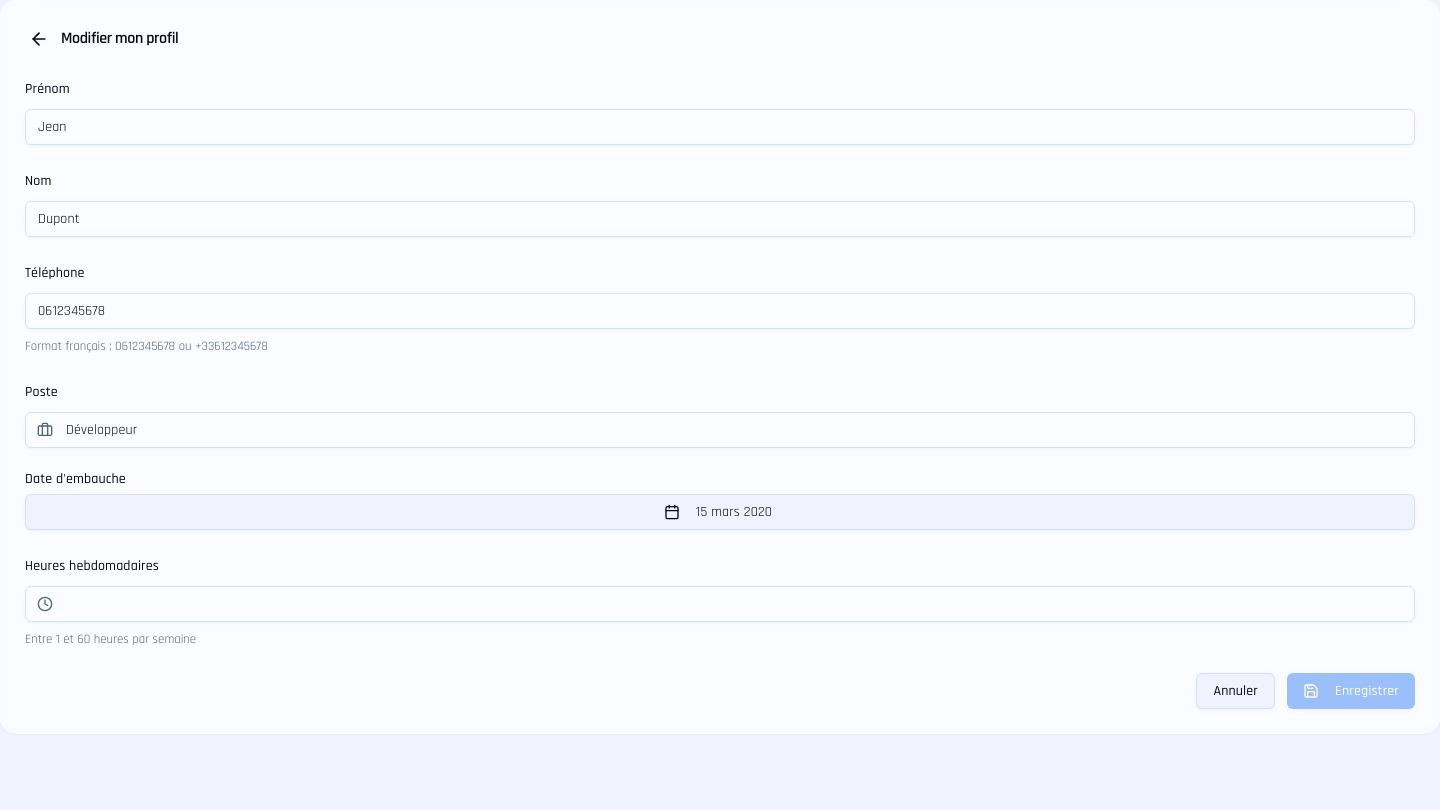
Test: EditProfileForm › Validation côté client › should show error for firstName too short
In the field with test id "input-firstName": (720, 127) left=25, top=109, right=1415, bottom=145, type "J"
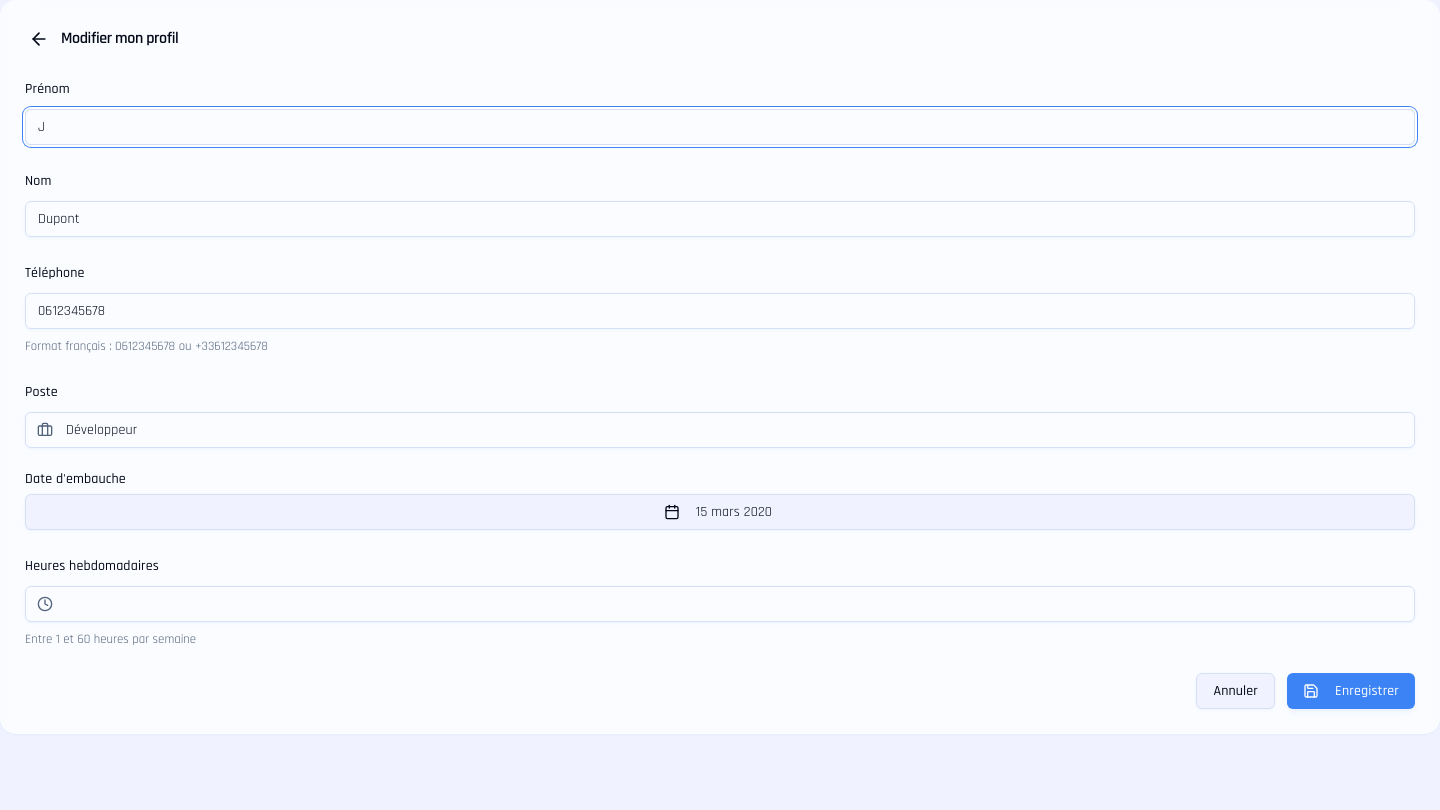
Press Tab
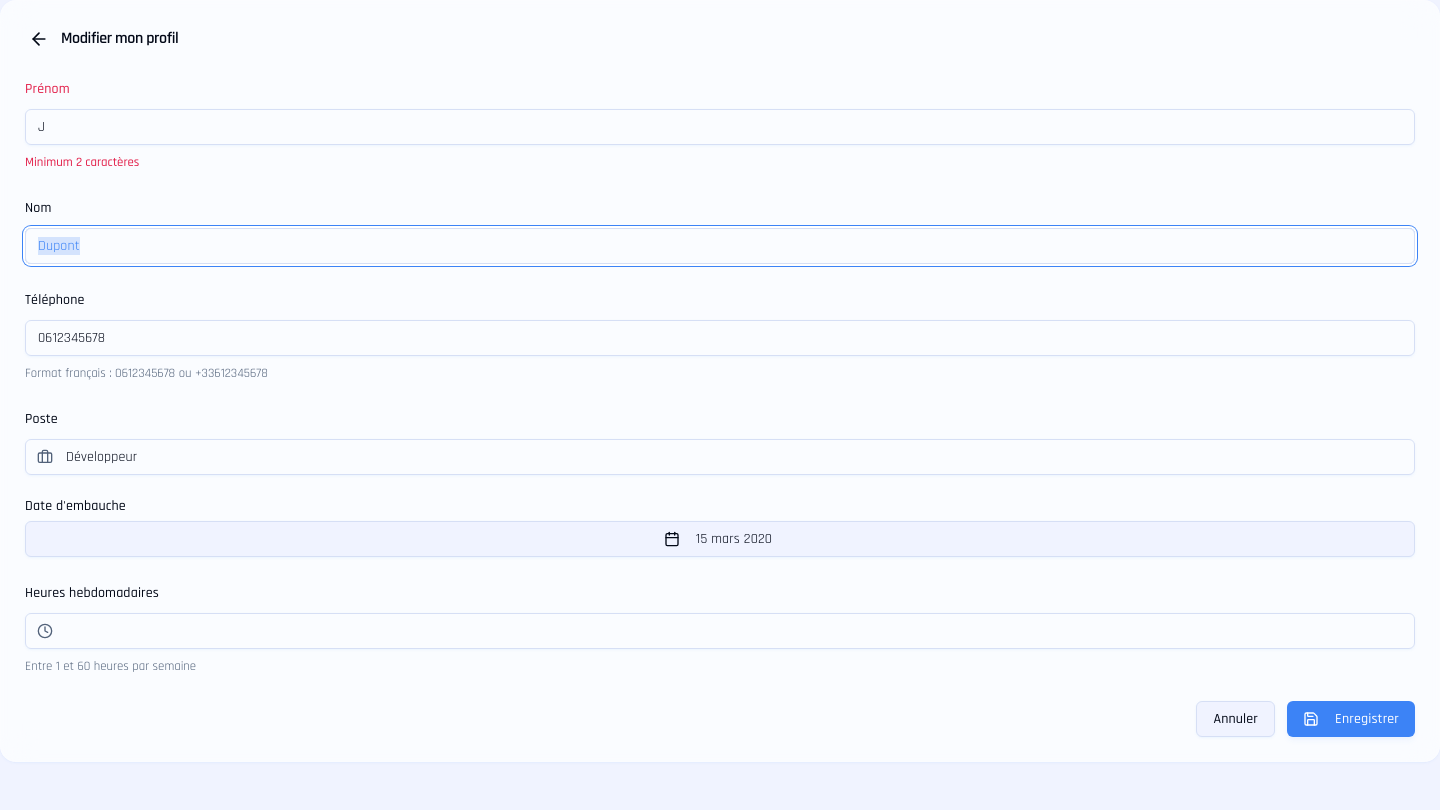
Check: the text "Minimum 2 caractères" is shown, box left=25, top=154, right=139, bottom=170
